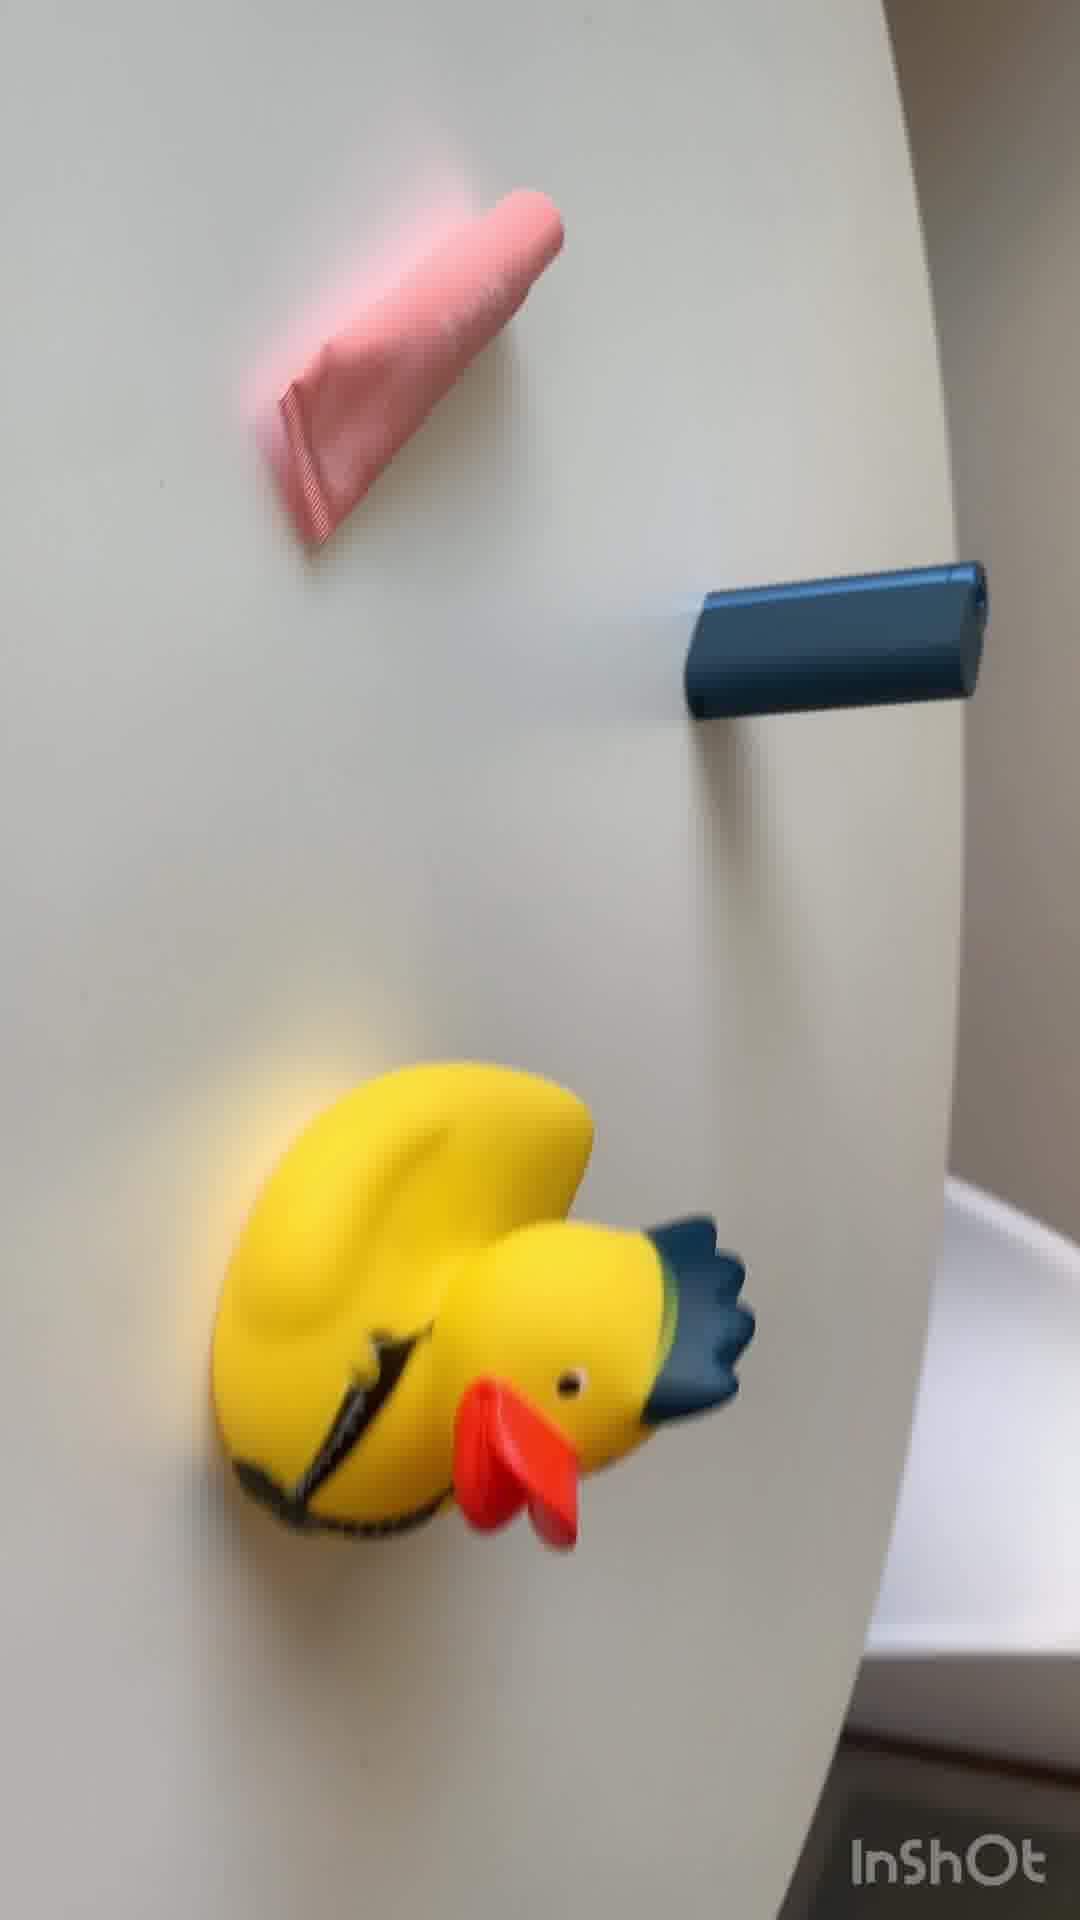duck: (210, 1069, 744, 1563)
glo: (690, 554, 996, 723)
lip balm: (280, 169, 562, 556)
